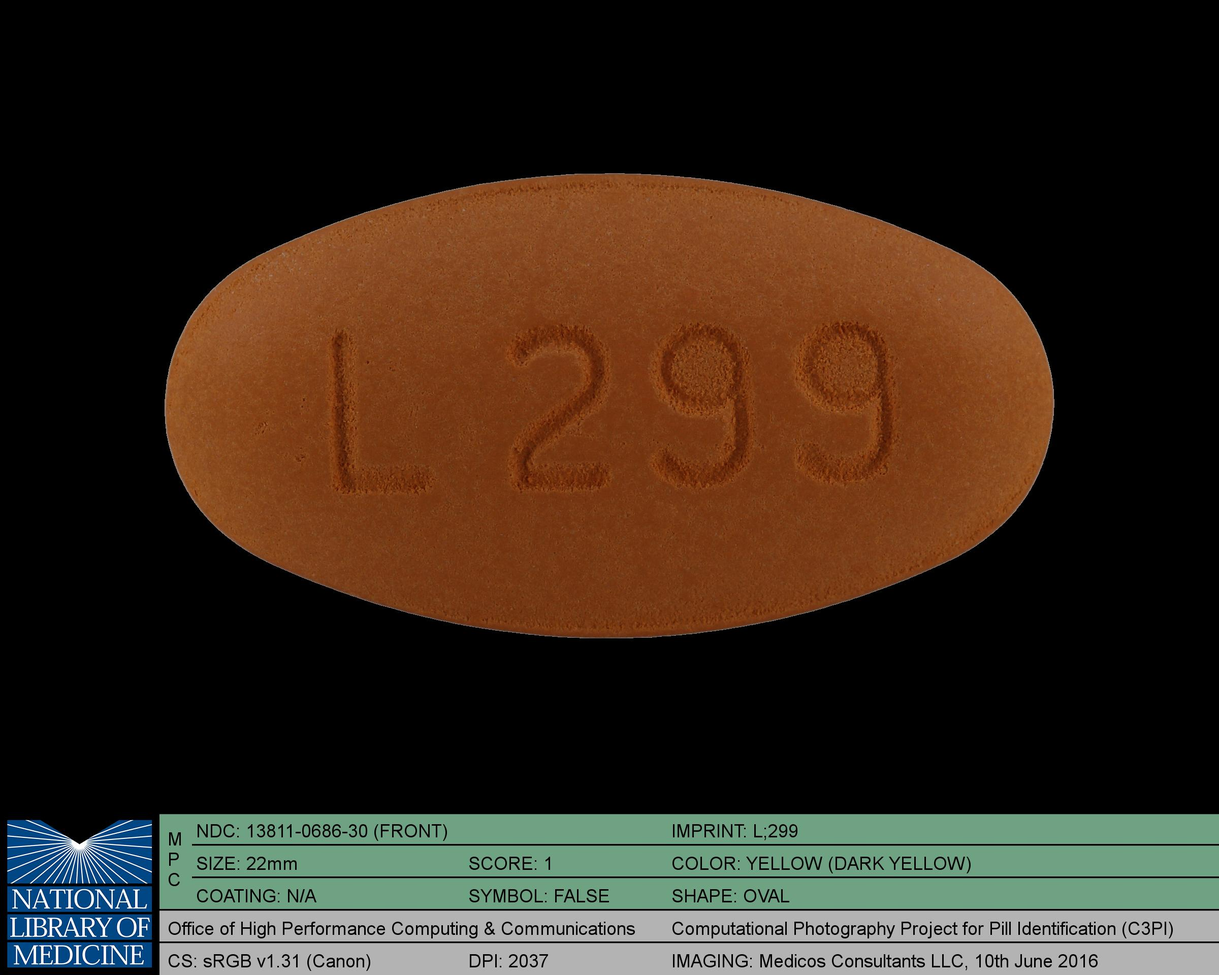Pill: (151, 157, 1068, 650)
